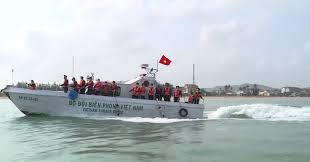tau_dansu: (4, 66, 206, 129)
